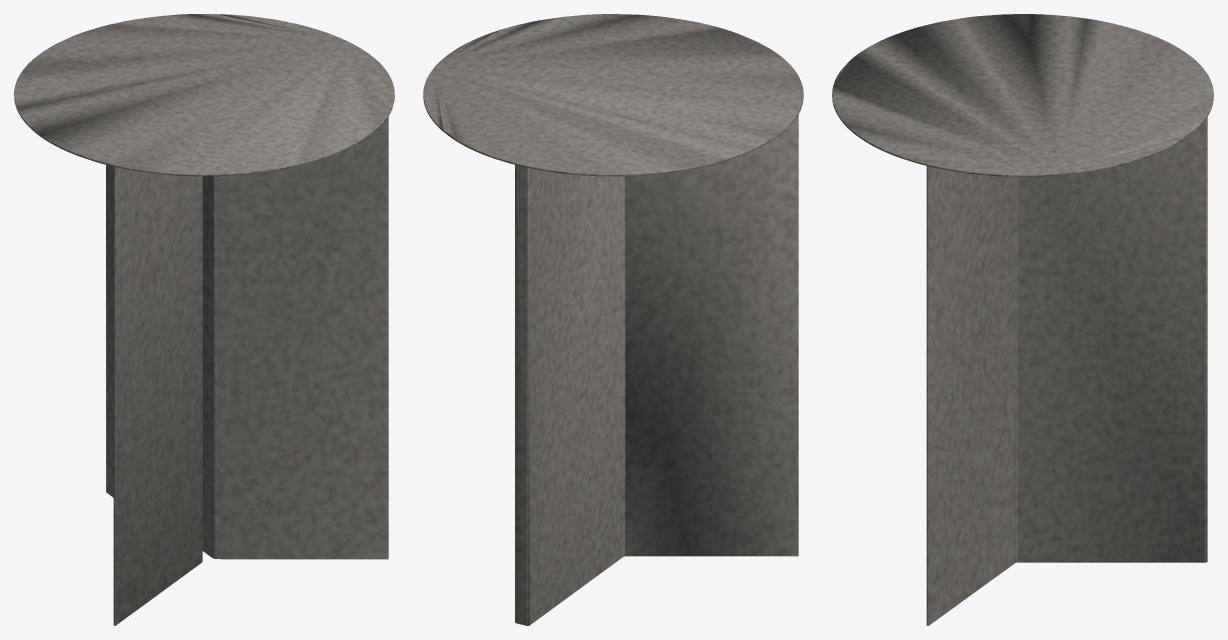
The model's file is slit-side-table-4k-baked.glb.
3 renders of one model, left to right at view 1: azimuth 30°, elevation 25°; view 2: azimuth 150°, elevation 25°; view 3: azimuth 270°, elevation 25°, orthographic.
Visible parts, largest first — view 1: slit-side-table-4k-baked-mesh; view 2: slit-side-table-4k-baked-mesh; view 3: slit-side-table-4k-baked-mesh.
Boxes of the visible parts, x1,y1,x2,y2 form: slit-side-table-4k-baked-mesh: (14,14,394,625); slit-side-table-4k-baked-mesh: (423,14,803,625); slit-side-table-4k-baked-mesh: (832,14,1213,625).
Size of the model in its own units: 0.35 by 0.47 by 0.35.
1 material, 1 textured.
